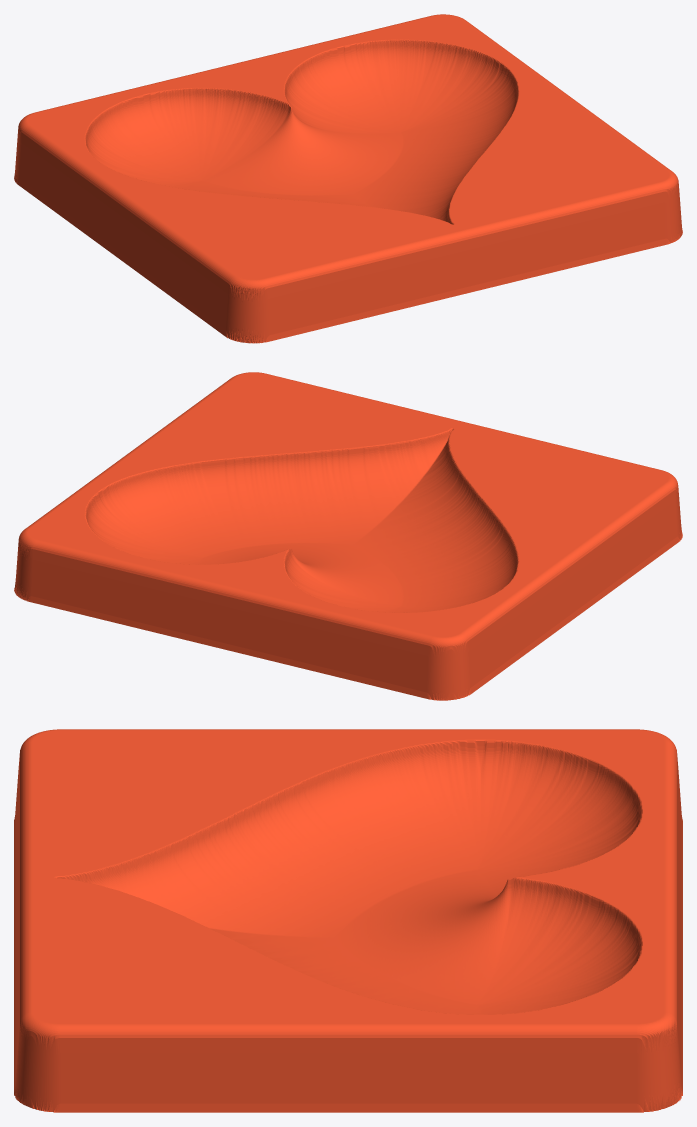
Rendered from mold.glb.
The picture shows the model from 3 angles, top to bottom: view 1: azimuth 30°, elevation 25°; view 2: azimuth 150°, elevation 25°; view 3: azimuth 270°, elevation 25°; orthographic projection. The views are drawn at different scales.
Parts seen in each view (by area): view 1: geometry_0; view 2: geometry_0; view 3: geometry_0.
Part boxes in pixels (x1=…): geometry_0: x1=14, y1=14, x2=682, y2=343; geometry_0: x1=14, y1=372, x2=682, y2=700; geometry_0: x1=14, y1=729, x2=682, y2=1112.
Size of the model in its own units: 0.1435 by 0.0175 by 0.1313.
